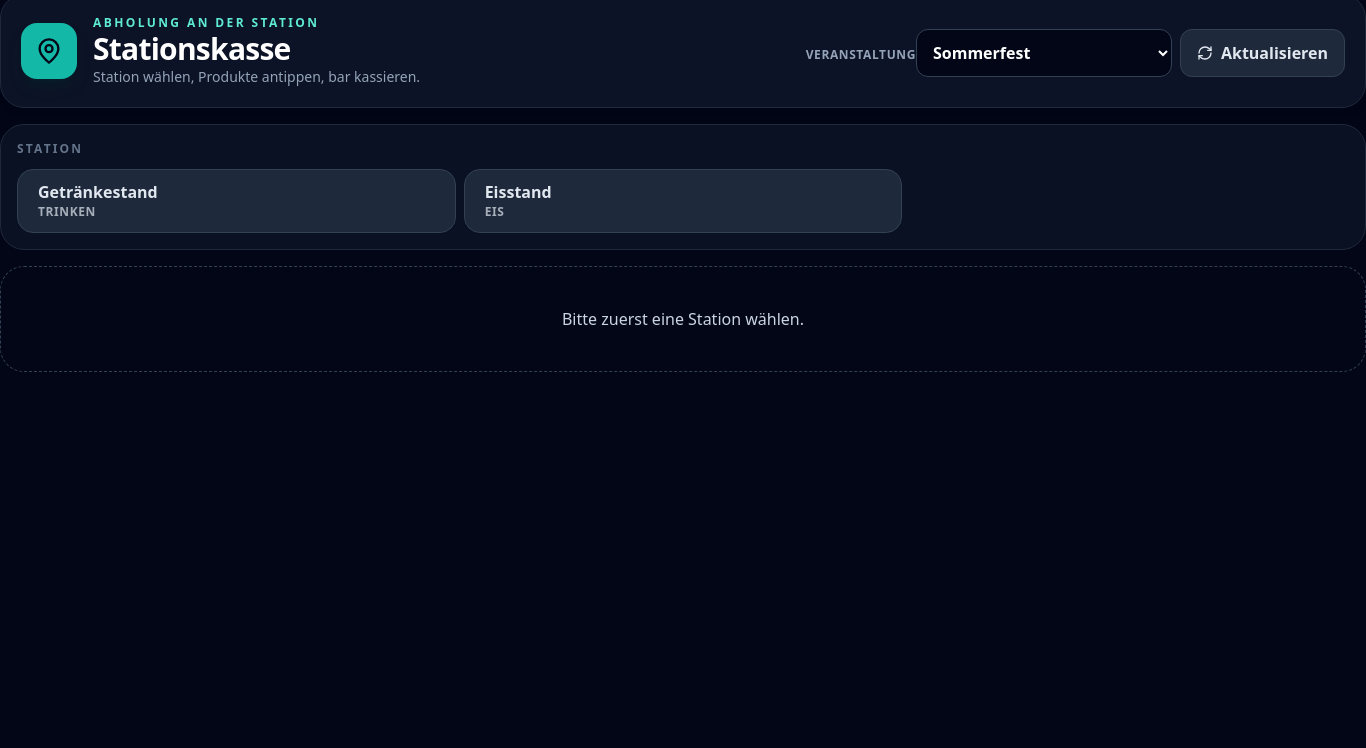
Test: Stationskasse › leert nach Abbruch den Warenkorb und zieht einen neuen Idempotenzschlüssel
The image size is (1366, 748).
What coordinates should you click on to do the following:
click the button "Getränkestand Trinken"
I would click on:
 (98, 192)
Its box is [17, 169, 456, 233].
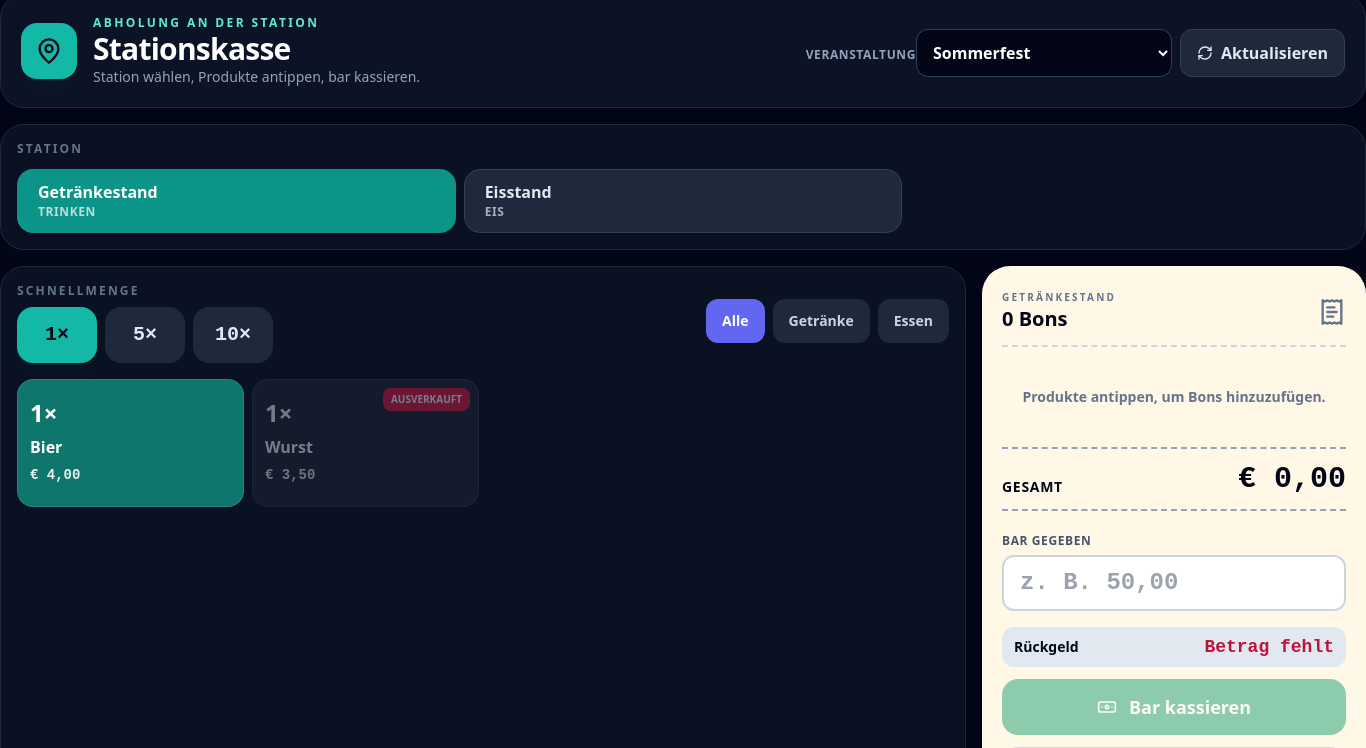
What coordinates should you click on to do the following:
click the text "Bier"
I would click on:
 (46, 447)
Its box is [30, 436, 62, 458].
(page scrolled)
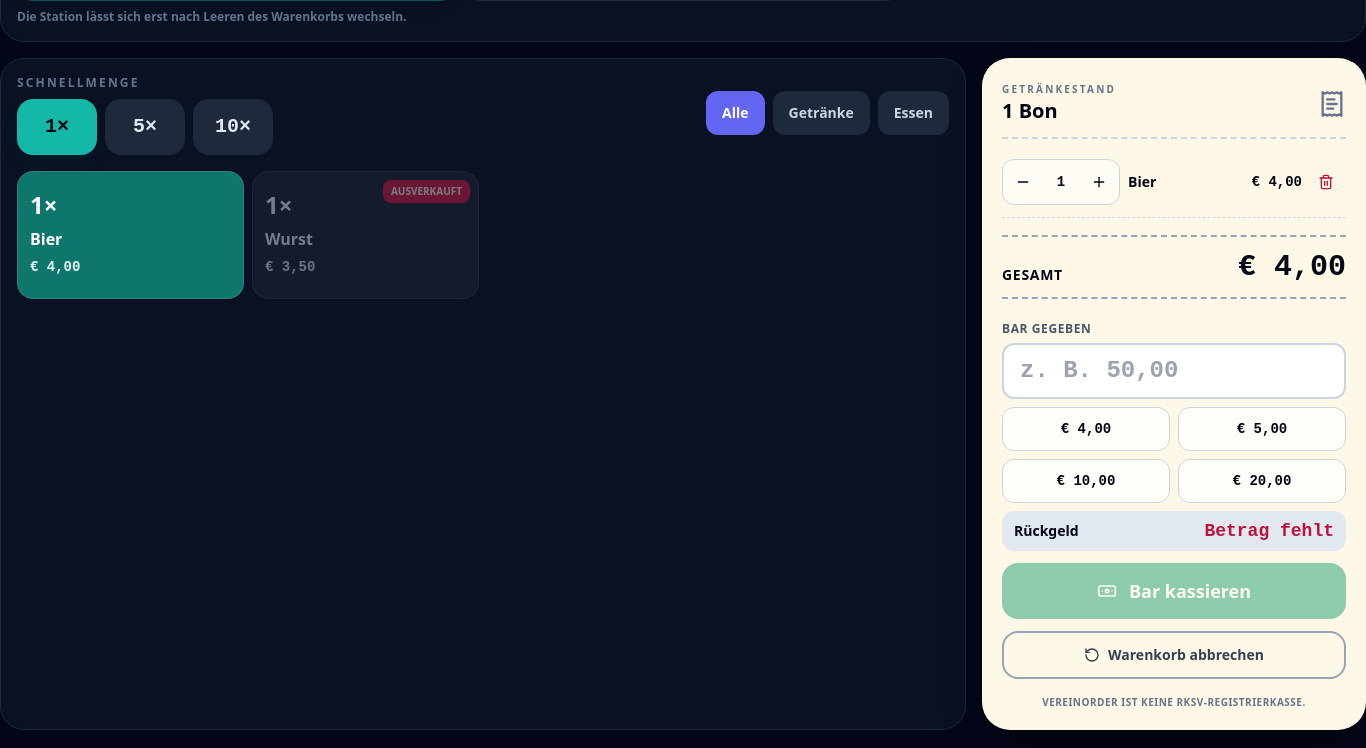
Now the heading "1 Bon" is shown, box [1002, 97, 1058, 124]
What coordinates should you click on to do the following:
click the button "Warenkorb abbrechen"
I would click on:
 (1174, 655)
Its box is [1002, 631, 1346, 679].
(page scrolled)
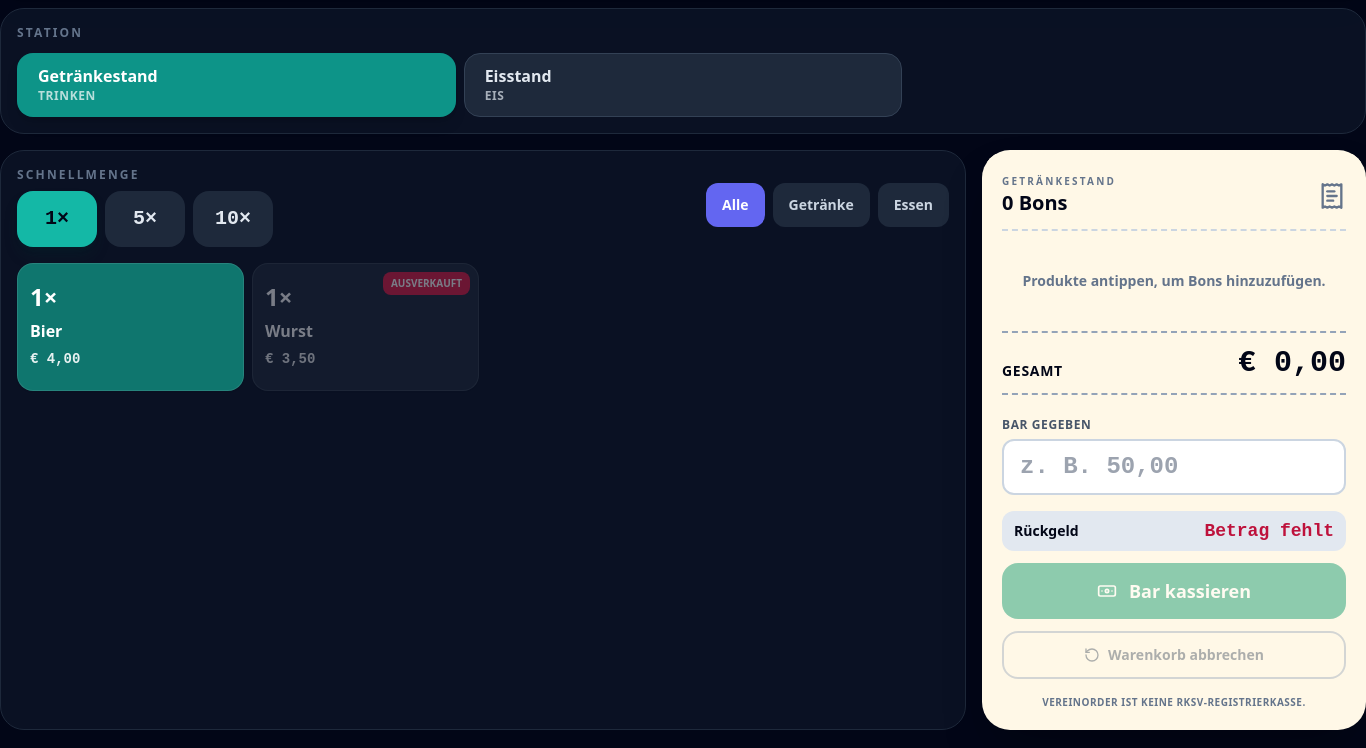
Now the text "Produkte antippen, um Bons hinzuzufügen." is shown, box [1022, 271, 1326, 290]
Now the button "Eisstand Eis" is enabled, box [464, 53, 902, 117]
